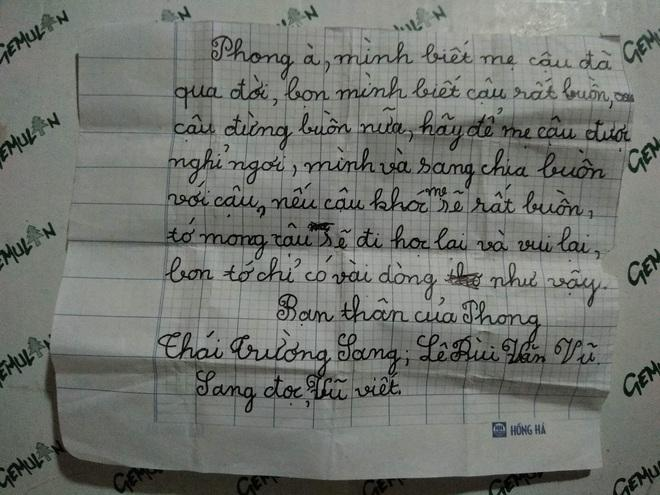text: (161, 254, 607, 309), (156, 329, 600, 378), (210, 31, 616, 84), (172, 106, 633, 152), (169, 141, 609, 188), (162, 219, 602, 264), (174, 69, 636, 111), (166, 179, 596, 221), (274, 291, 541, 343), (192, 366, 404, 415), (0, 1, 70, 70), (0, 103, 61, 174), (0, 435, 66, 493), (0, 329, 51, 391), (0, 216, 57, 271), (610, 459, 660, 495), (622, 24, 660, 66), (623, 356, 660, 398), (625, 133, 660, 176), (627, 245, 660, 290), (113, 467, 164, 493), (487, 474, 544, 495), (235, 476, 282, 495), (509, 420, 549, 438), (360, 480, 406, 495), (176, 3, 193, 22), (429, 6, 450, 21), (303, 4, 319, 22)
